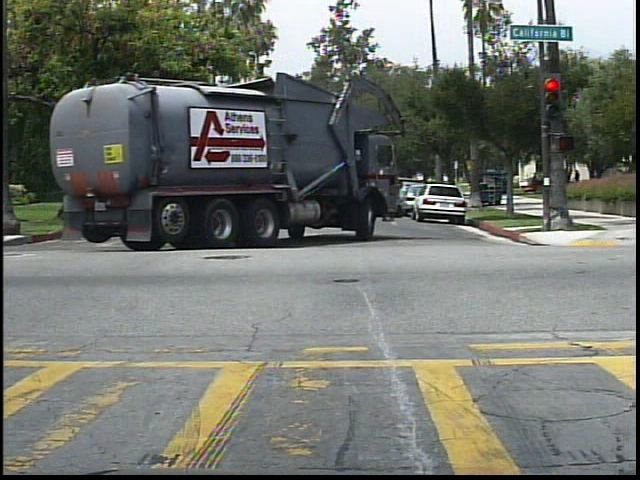person: (569, 165, 587, 195)
